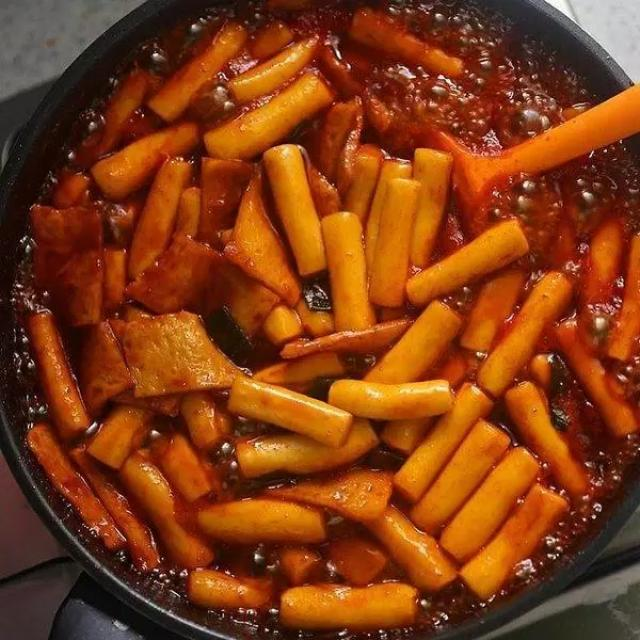carb: (395, 384, 570, 599), (370, 150, 530, 308), (479, 271, 589, 496), (330, 301, 464, 454), (322, 146, 384, 331), (205, 75, 335, 159), (122, 452, 214, 569), (559, 320, 639, 439), (150, 26, 249, 122), (229, 377, 355, 449), (236, 420, 380, 479), (27, 312, 92, 440), (264, 145, 327, 277), (92, 124, 200, 201), (365, 506, 459, 593), (350, 9, 465, 78), (130, 160, 194, 280), (79, 70, 152, 167), (281, 584, 419, 632), (199, 499, 329, 545), (229, 39, 320, 103), (461, 271, 526, 353), (370, 162, 410, 268), (607, 234, 640, 362), (89, 406, 154, 470), (161, 435, 214, 502), (190, 570, 275, 608), (181, 394, 232, 450)
meat: (111, 236, 239, 397), (29, 425, 162, 570), (225, 171, 301, 307), (32, 206, 105, 327), (267, 471, 394, 522), (282, 319, 414, 359), (221, 265, 281, 337), (200, 160, 254, 234)
